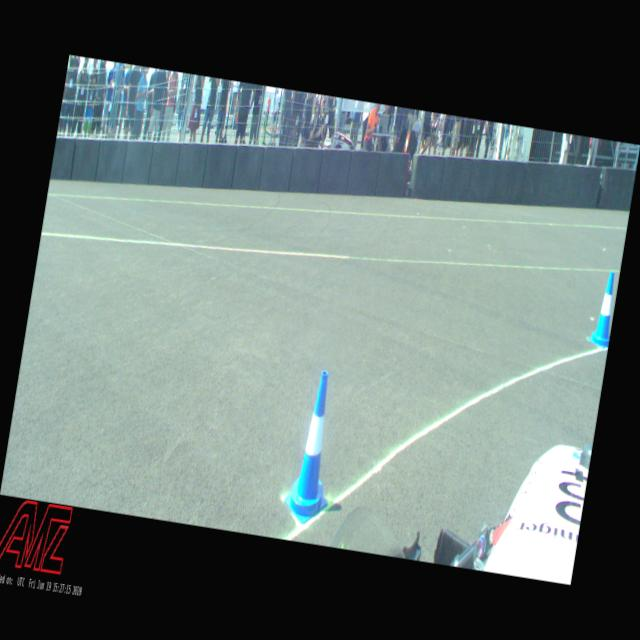blue_cone: (282, 368, 346, 526), (586, 269, 620, 350)
